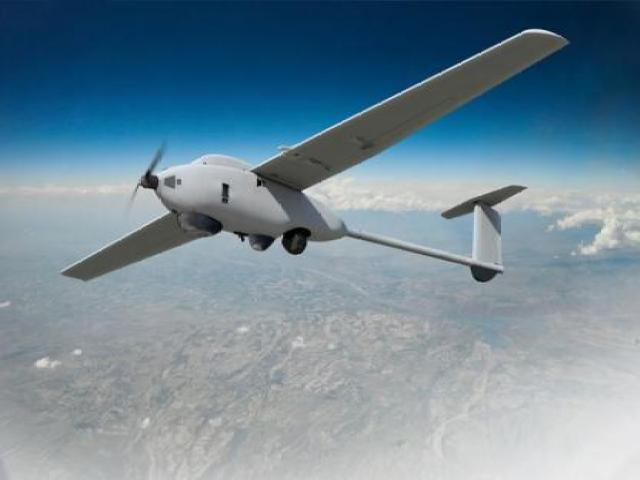uav: (54, 23, 577, 283)
